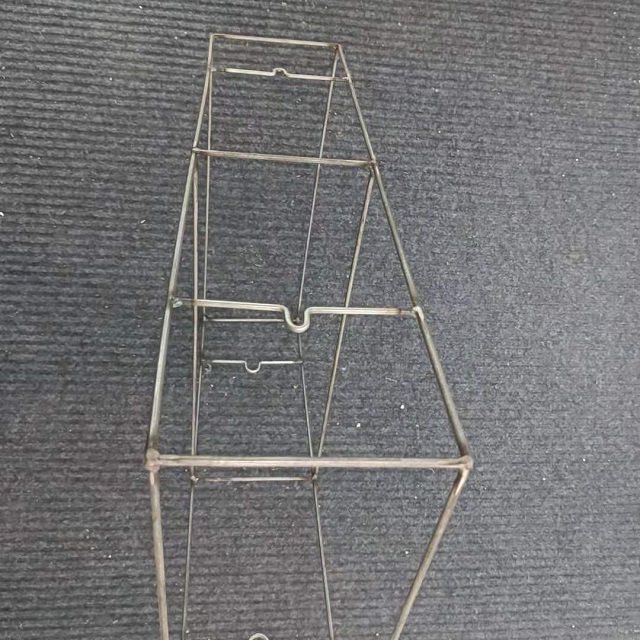curvedhole: (278, 300, 317, 337), (239, 355, 269, 378), (267, 61, 293, 82)
